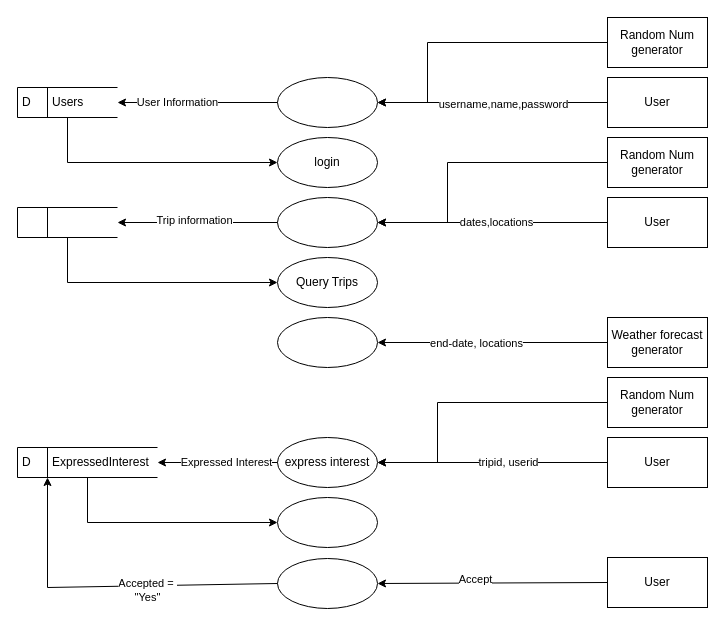
Image size: 725x626. Some labels were removed from this diagram. The shapes that lost their labels are listed below. From the top down, each one's centre as x and y in pixels, then its label:
At point (327, 102): "register".
At point (67, 222): "D Trips".
At point (327, 222): "create Trip".
At point (327, 342): "view weather".
At point (327, 522): "check interest".
At point (327, 583): "Accept Interest?".
